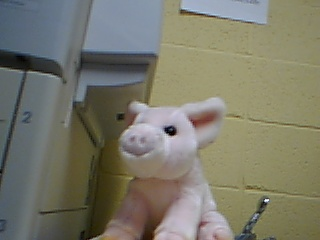piggy: (85, 96, 237, 240)
